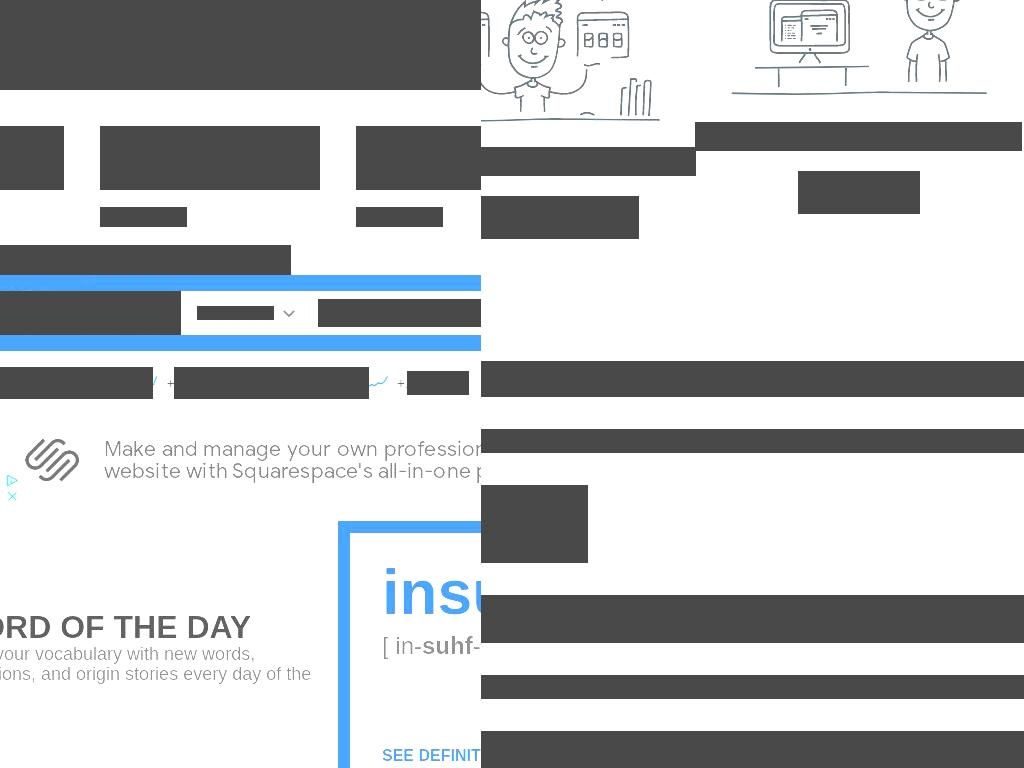button: (0, 291, 181, 335), (481, 196, 639, 239), (174, 367, 369, 399), (92, 245, 291, 275), (246, 0, 451, 27), (798, 171, 920, 214), (0, 367, 153, 399), (390, 367, 481, 399), (0, 245, 92, 275), (382, 747, 481, 765), (0, 367, 9, 399)
field: (318, 299, 481, 327)
heading: (481, 361, 1024, 397), (100, 126, 320, 190), (695, 122, 1022, 151), (356, 126, 481, 190), (481, 147, 696, 176), (113, 608, 251, 645), (0, 608, 114, 645), (0, 126, 64, 190)
iframe: (4, 415, 481, 505), (481, 485, 588, 563)
image: (210, 0, 481, 90), (0, 291, 161, 331), (29, 374, 76, 393), (245, 374, 292, 393), (246, 47, 257, 58), (266, 47, 277, 58), (286, 47, 297, 58)
link: (100, 207, 187, 227), (356, 207, 443, 227)
text: (481, 595, 1024, 643), (0, 643, 322, 704), (481, 429, 1024, 453), (481, 675, 1024, 699), (481, 731, 1024, 755), (481, 755, 1024, 768), (382, 557, 481, 627), (382, 747, 481, 764), (407, 371, 469, 395), (422, 632, 474, 659), (191, 371, 238, 395), (382, 632, 422, 659), (197, 306, 274, 320), (83, 375, 136, 391), (299, 375, 352, 391), (0, 371, 22, 395)
